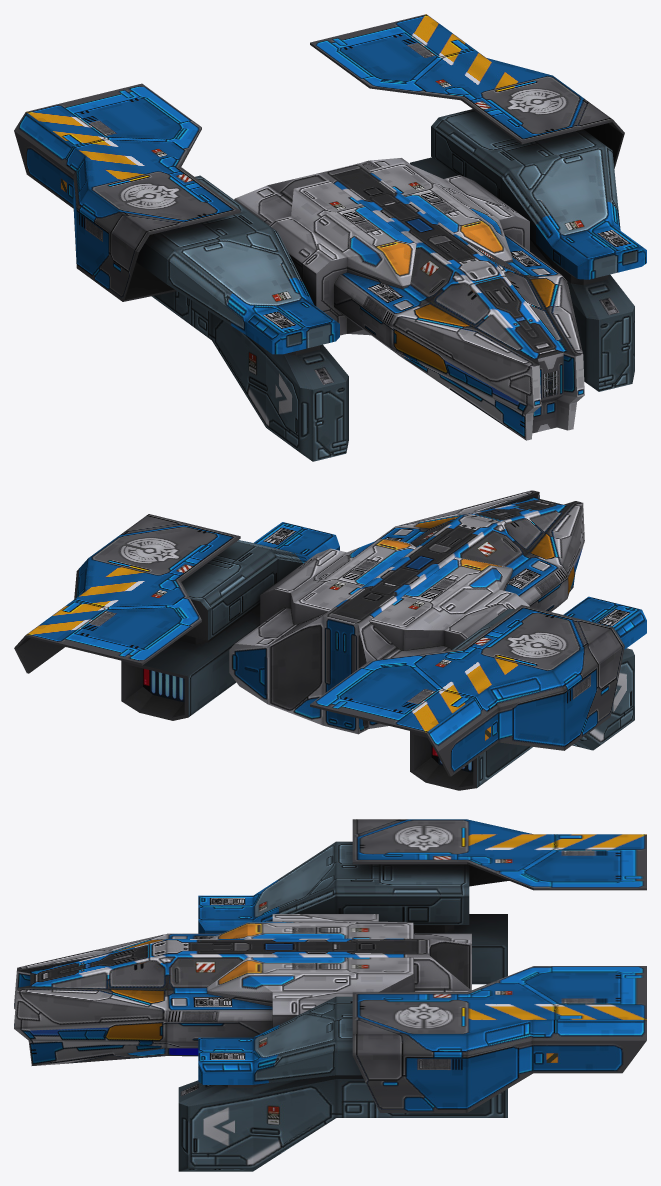
File: Spaceship_LowRes02B.FBX
3 renders of one model, top to bottom at view 1: azimuth 30°, elevation 25°; view 2: azimuth 150°, elevation 25°; view 3: azimuth 270°, elevation 25°, orthographic. The views are drawn at different scales.
Visible parts, largest first — view 1: Spaceship_LowRes02B; view 2: Spaceship_LowRes02B; view 3: Spaceship_LowRes02B.
Part boxes in pixels (bbox=[...]): Spaceship_LowRes02B: bbox=[14, 14, 646, 461]; Spaceship_LowRes02B: bbox=[14, 490, 646, 790]; Spaceship_LowRes02B: bbox=[14, 819, 646, 1171].
Bounding box in the file's own units: 1490 × 523 × 1762.
